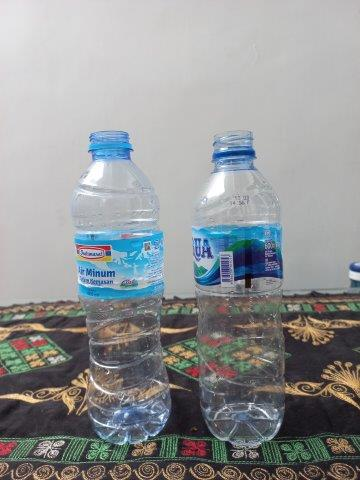botolplastik: (72, 131, 171, 444), (192, 129, 284, 447)
